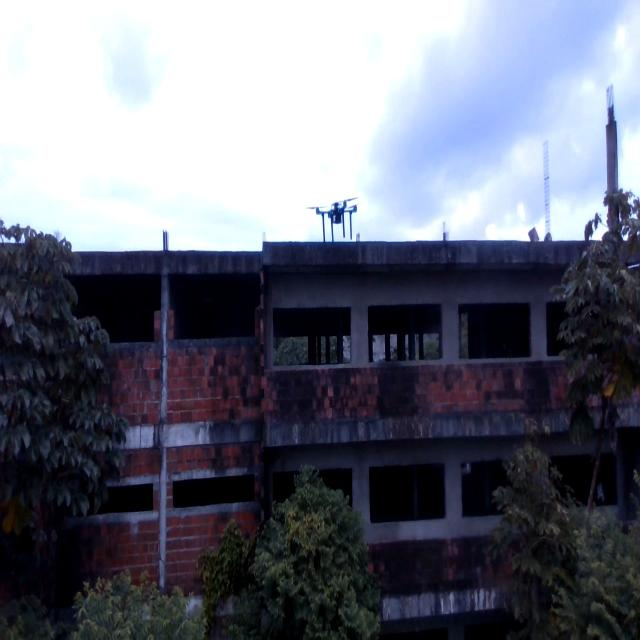-uav-: (303, 193, 362, 246)
